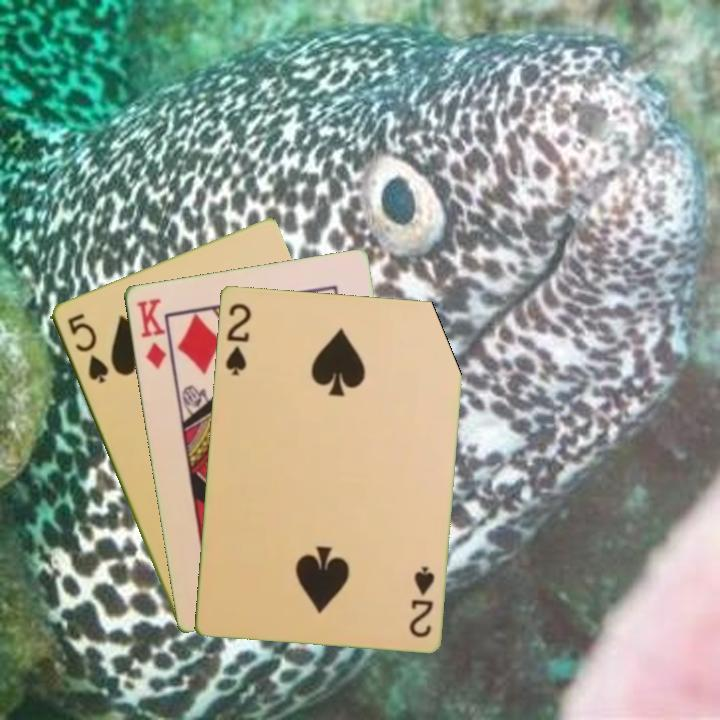2s: (221, 299, 254, 378), (405, 562, 437, 640)
5s: (63, 309, 111, 387)
Kd: (132, 294, 169, 372)
